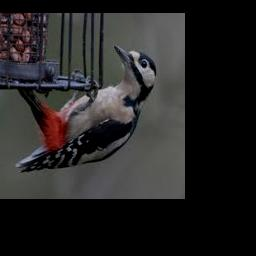Woodpecker: (16, 45, 157, 173)
